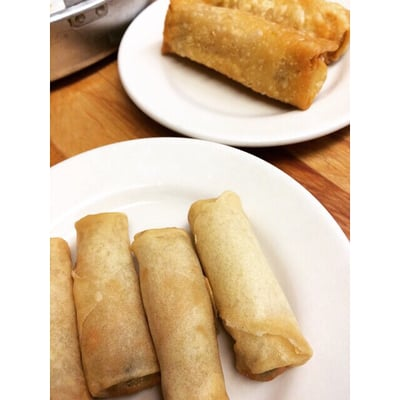soup: (161, 0, 350, 111)
